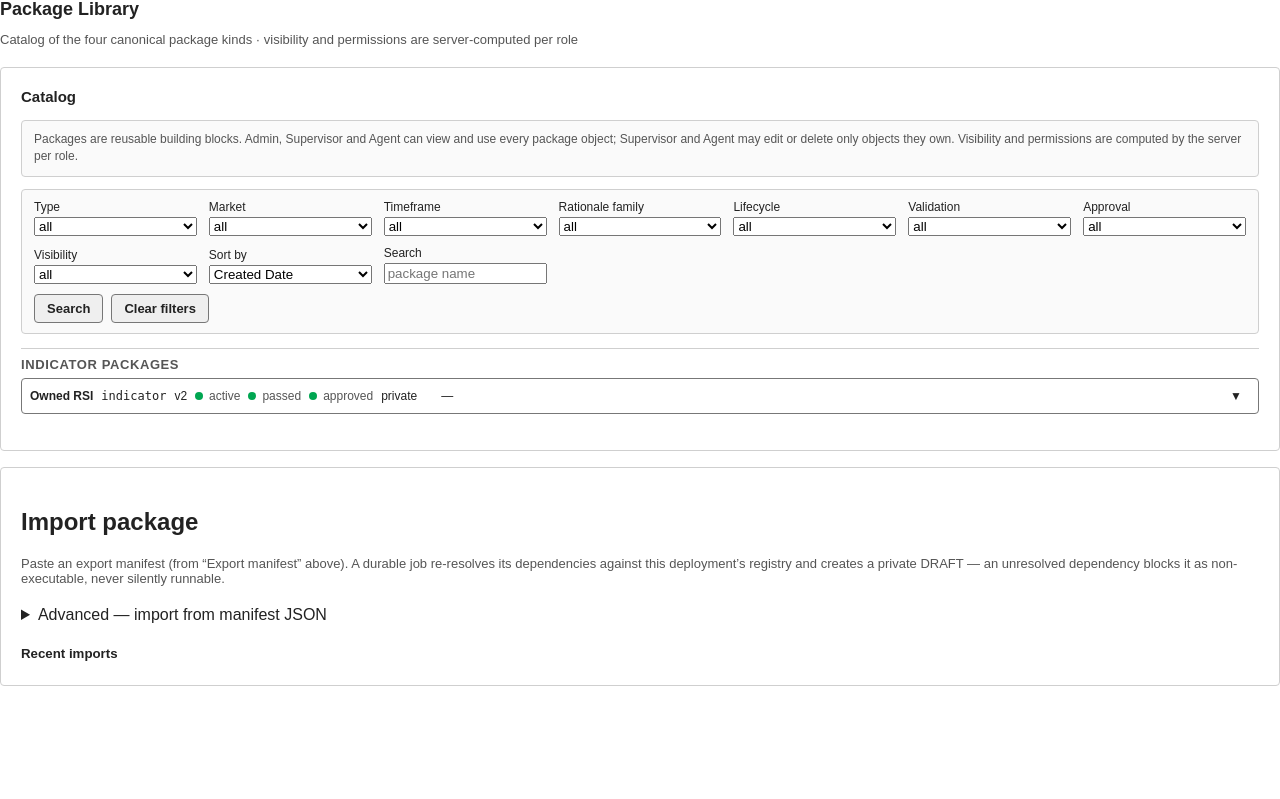
Test: Package Library lifecycle actions (GAP-06) › shows Deprecate + Move to Trash when the server marks the package editable
Check: the text "Owned RSI" is shown, box top-left (30, 389), bottom-right (93, 403)
Click the button named "Detail": click(1236, 396) top-left (1222, 382), bottom-right (1250, 410)
(page scrolled)
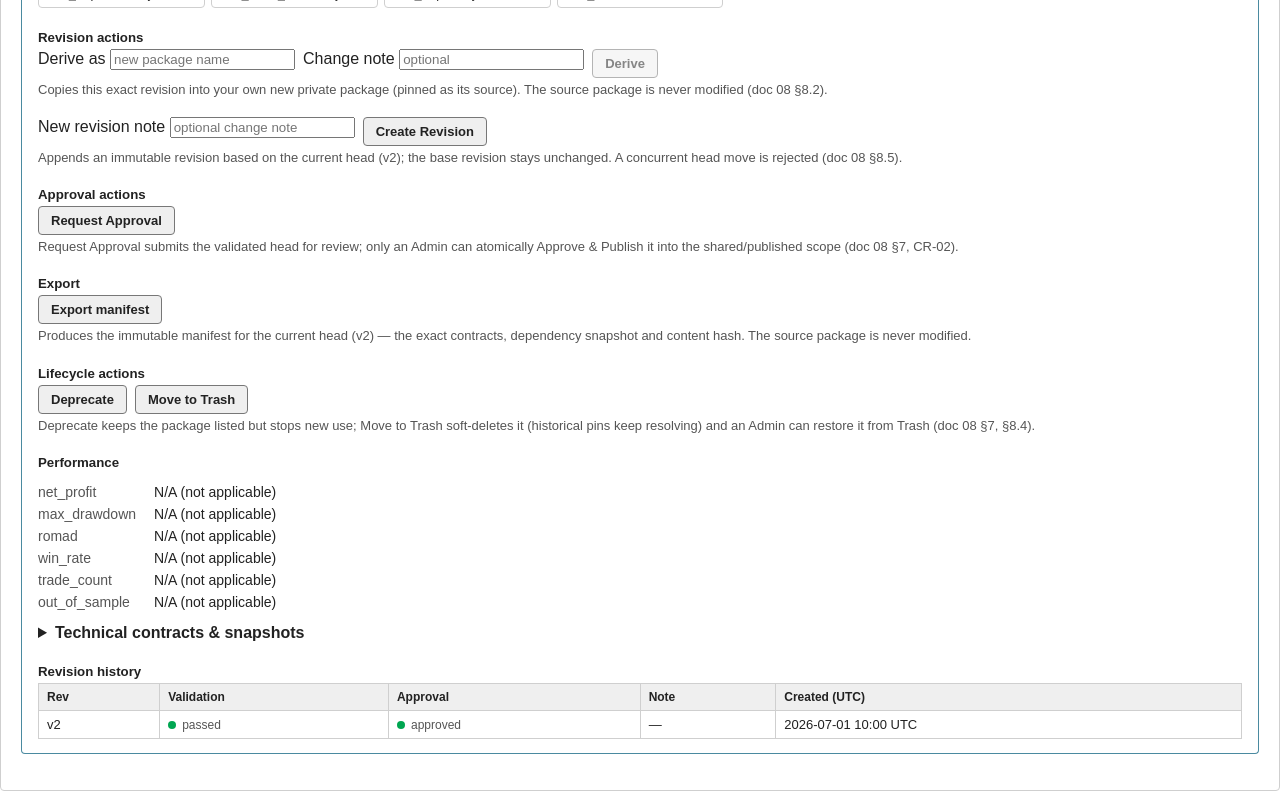
Check: the heading "Lifecycle actions" is shown, box top-left (38, 366), bottom-right (145, 381)
Check: the button "Deprecate" is shown, box top-left (38, 385), bottom-right (127, 414)
Check: the button "Move to Trash" is shown, box top-left (135, 385), bottom-right (248, 414)
